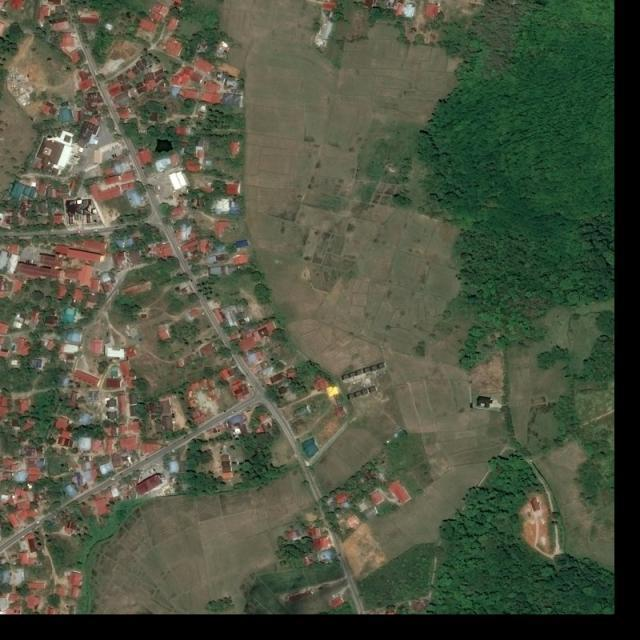ship: (418, 128, 426, 134)
